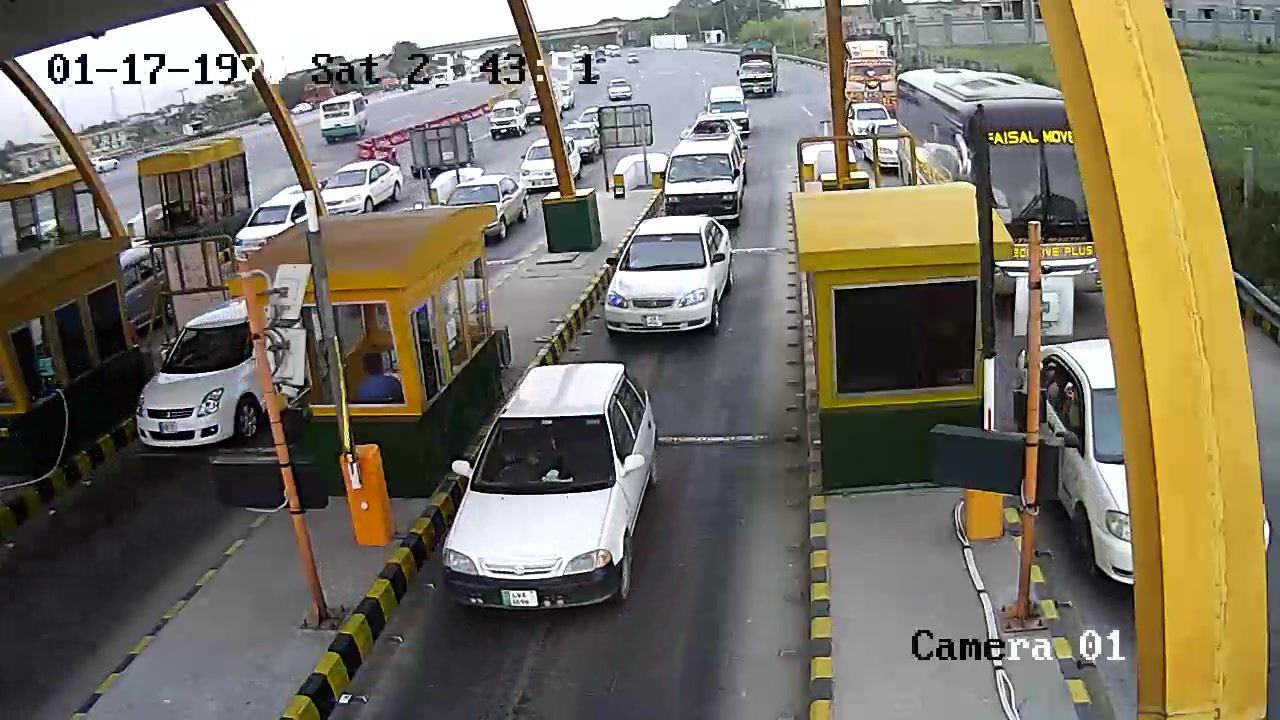F1: (438, 352, 675, 622)
